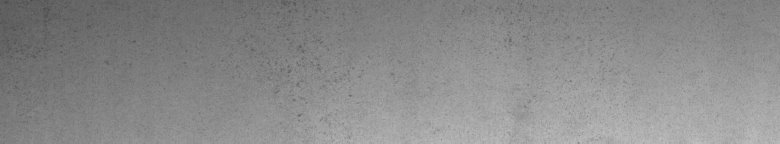ib: (280, 4, 341, 104)
